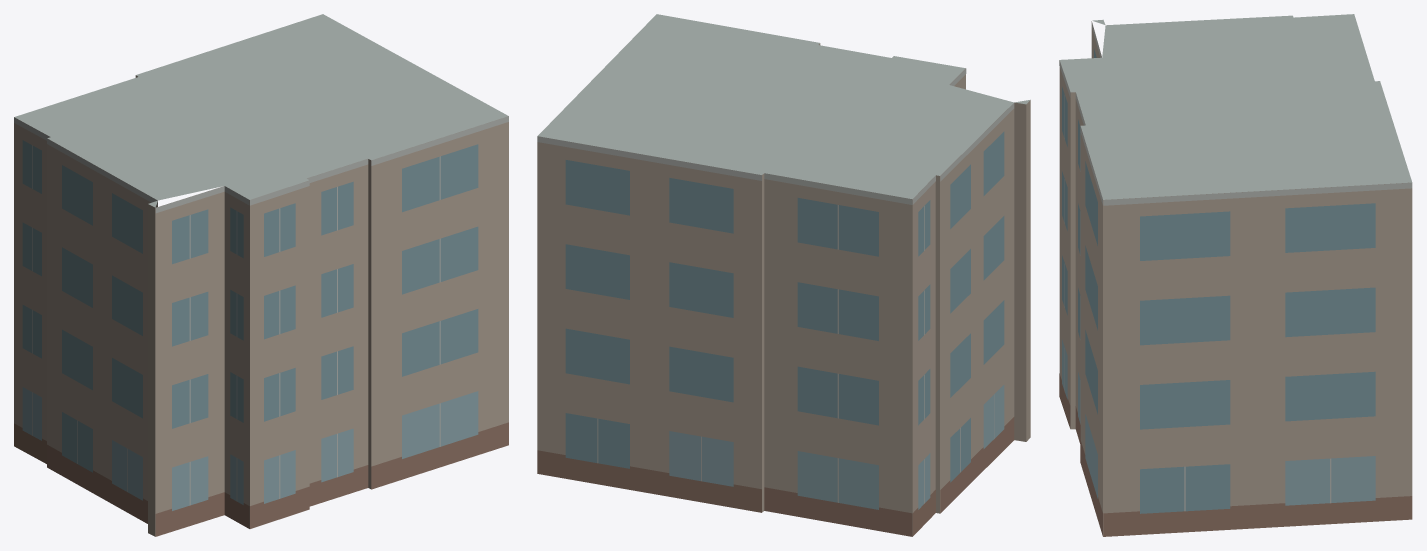
Rendered from survey-upis-32587761.glb.
3 renders of one model, left to right at view 1: azimuth 30°, elevation 25°; view 2: azimuth 150°, elevation 25°; view 3: azimuth 270°, elevation 25°, orthographic. The views are drawn at different scales.
Visible parts, largest first — view 1: survey-upis-32587761.tmp; view 2: survey-upis-32587761.tmp; view 3: survey-upis-32587761.tmp.
Boxes of the visible parts, left/top/right/bottom form: survey-upis-32587761.tmp: left=14, top=14, right=508, bottom=536; survey-upis-32587761.tmp: left=537, top=14, right=1030, bottom=536; survey-upis-32587761.tmp: left=1059, top=14, right=1412, bottom=536.
Size of the model in its own units: 16.57 by 14 by 13.3.
